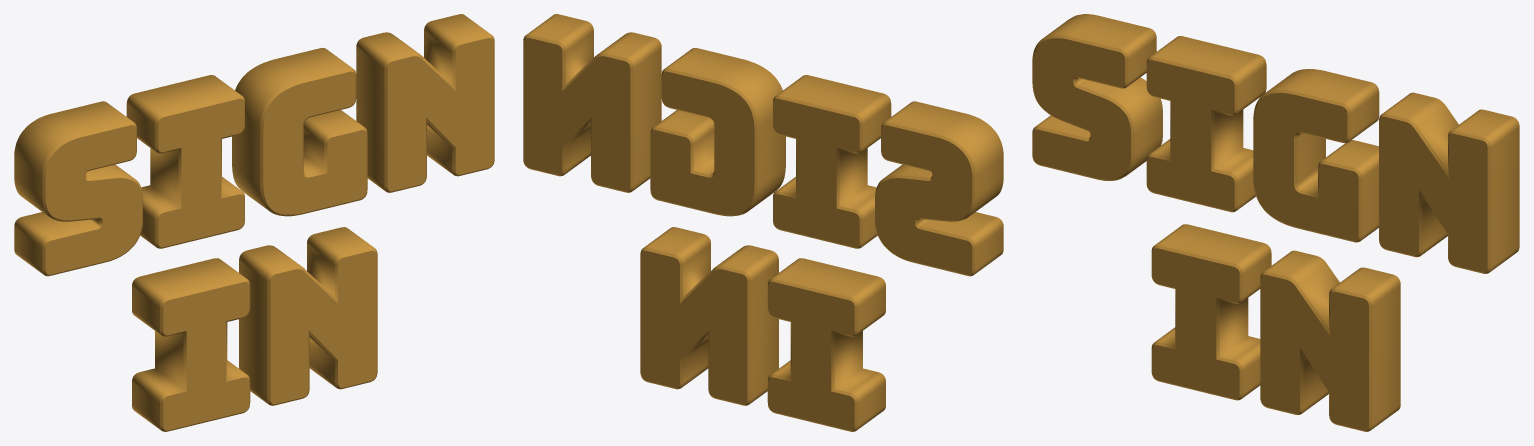
Rendered from sign-in-bungee_draco.glb.
3 renders of one model, left to right at view 1: azimuth 30°, elevation 25°; view 2: azimuth 150°, elevation 25°; view 3: azimuth 330°, elevation 25°, orthographic.
Parts seen in each view (by area): view 1: Text; view 2: Text; view 3: Text.
Part boxes in pixels (left/top/right/bottom): Text: left=14, top=14, right=494, bottom=431; Text: left=523, top=14, right=1003, bottom=431; Text: left=1032, top=14, right=1519, bottom=431.
Size of the model in its own units: 2.05 by 1.38 by 0.2399.
